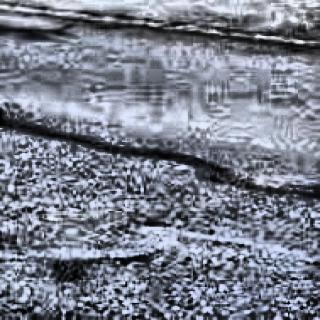crack: (2, 109, 320, 199)
